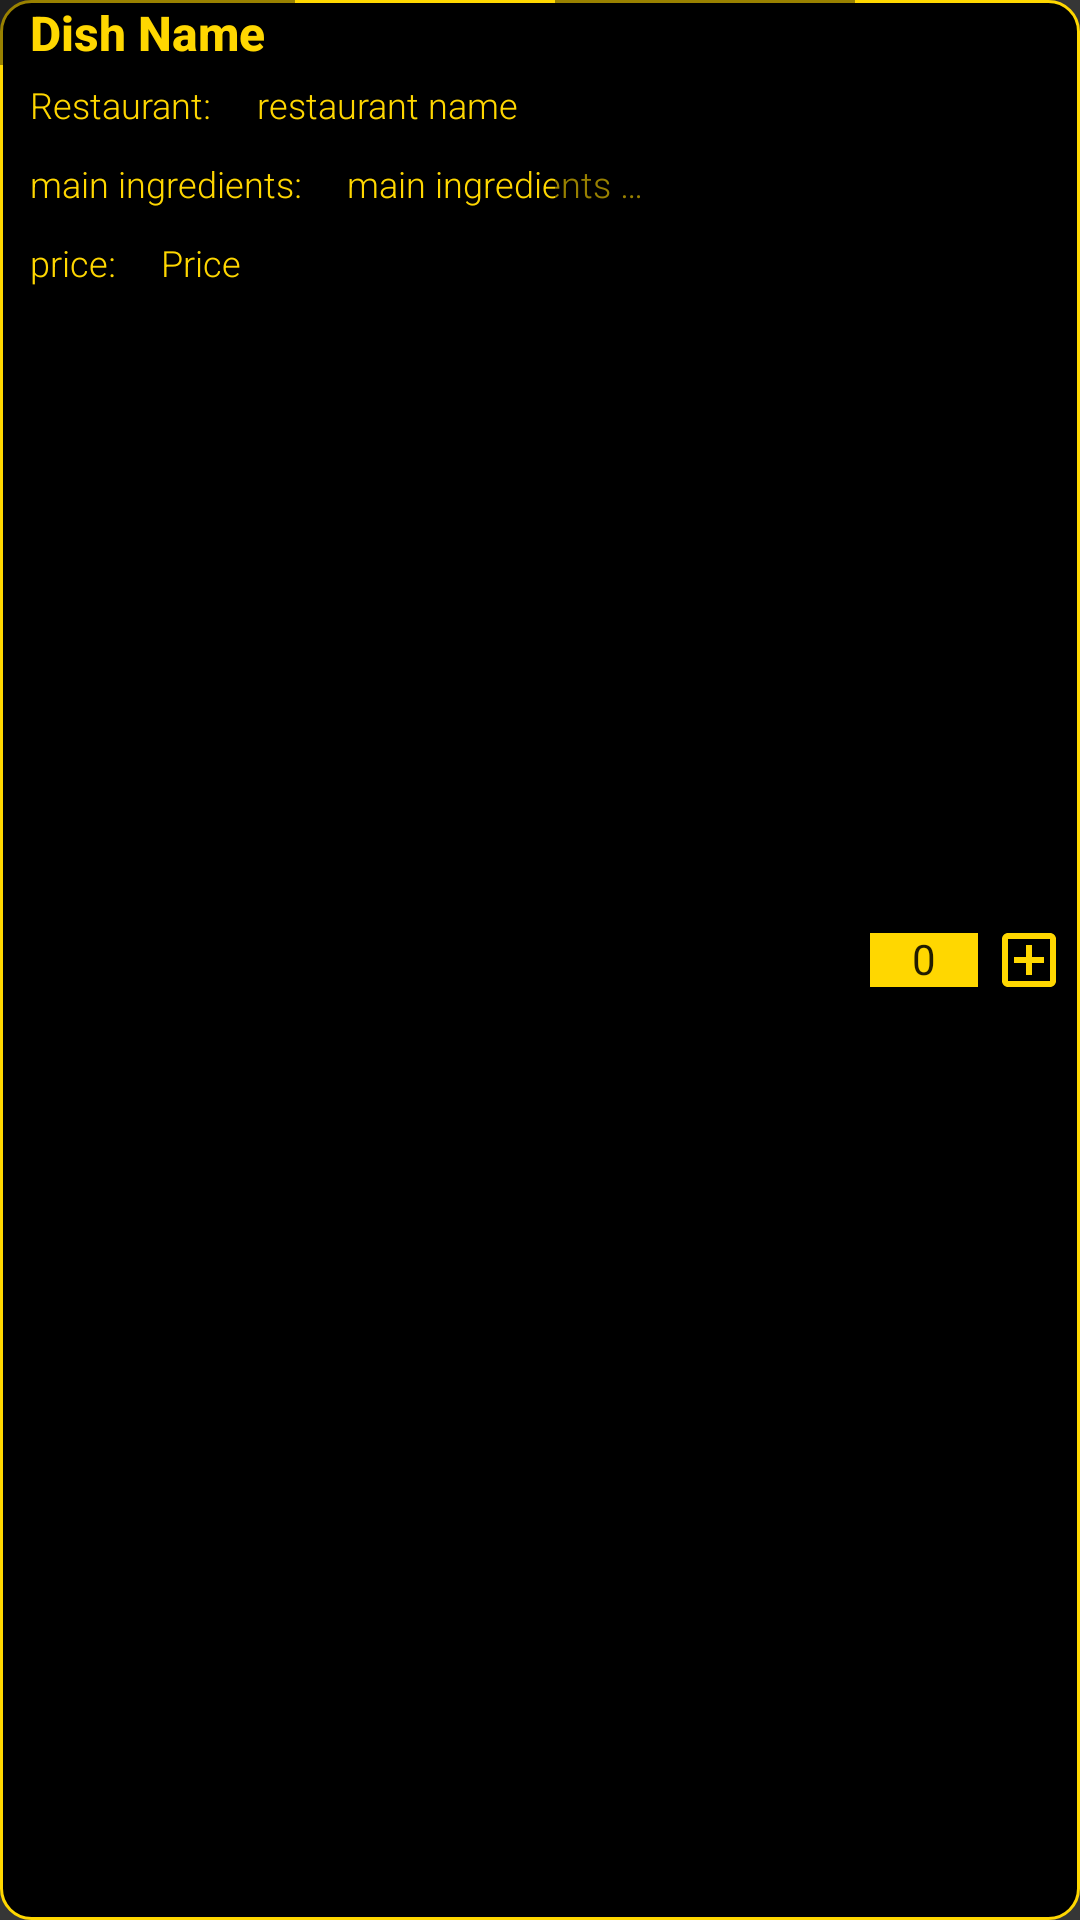

Screen size 1080 × 1920. Icon name, then its box in pixels as {"x1": x1, "y1": y1, "x2": x2, "y2": y2}:
add: {"x1": 1002, "y1": 933, "x2": 1056, "y2": 987}
